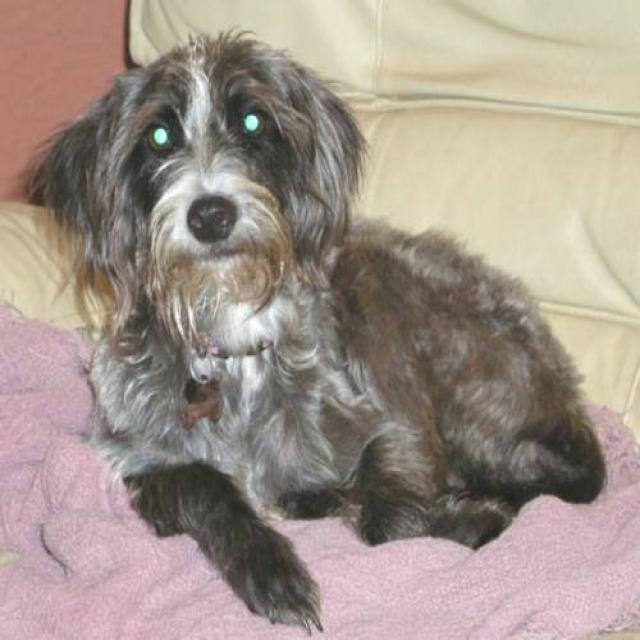dog: (20, 25, 608, 634)
